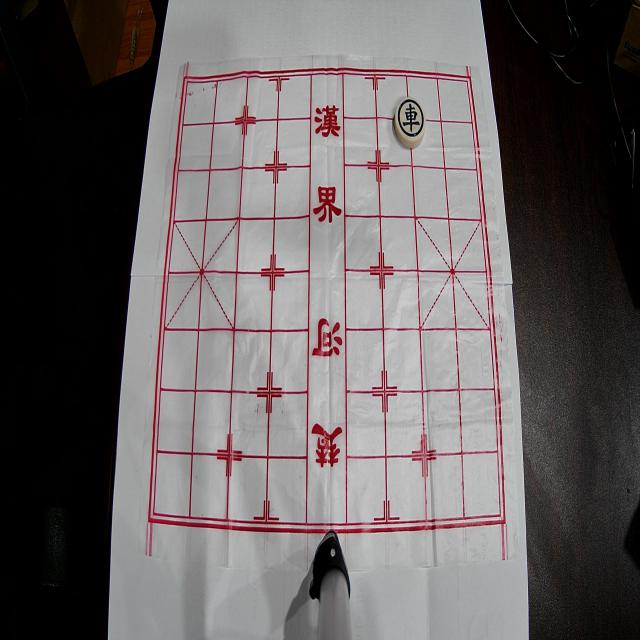black-chariot: (394, 98, 426, 148)
